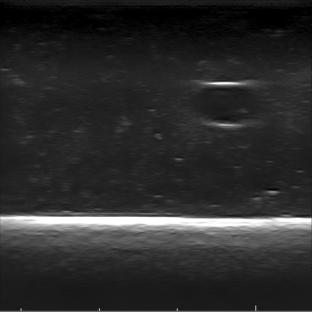vessel: (190, 81, 263, 130)
